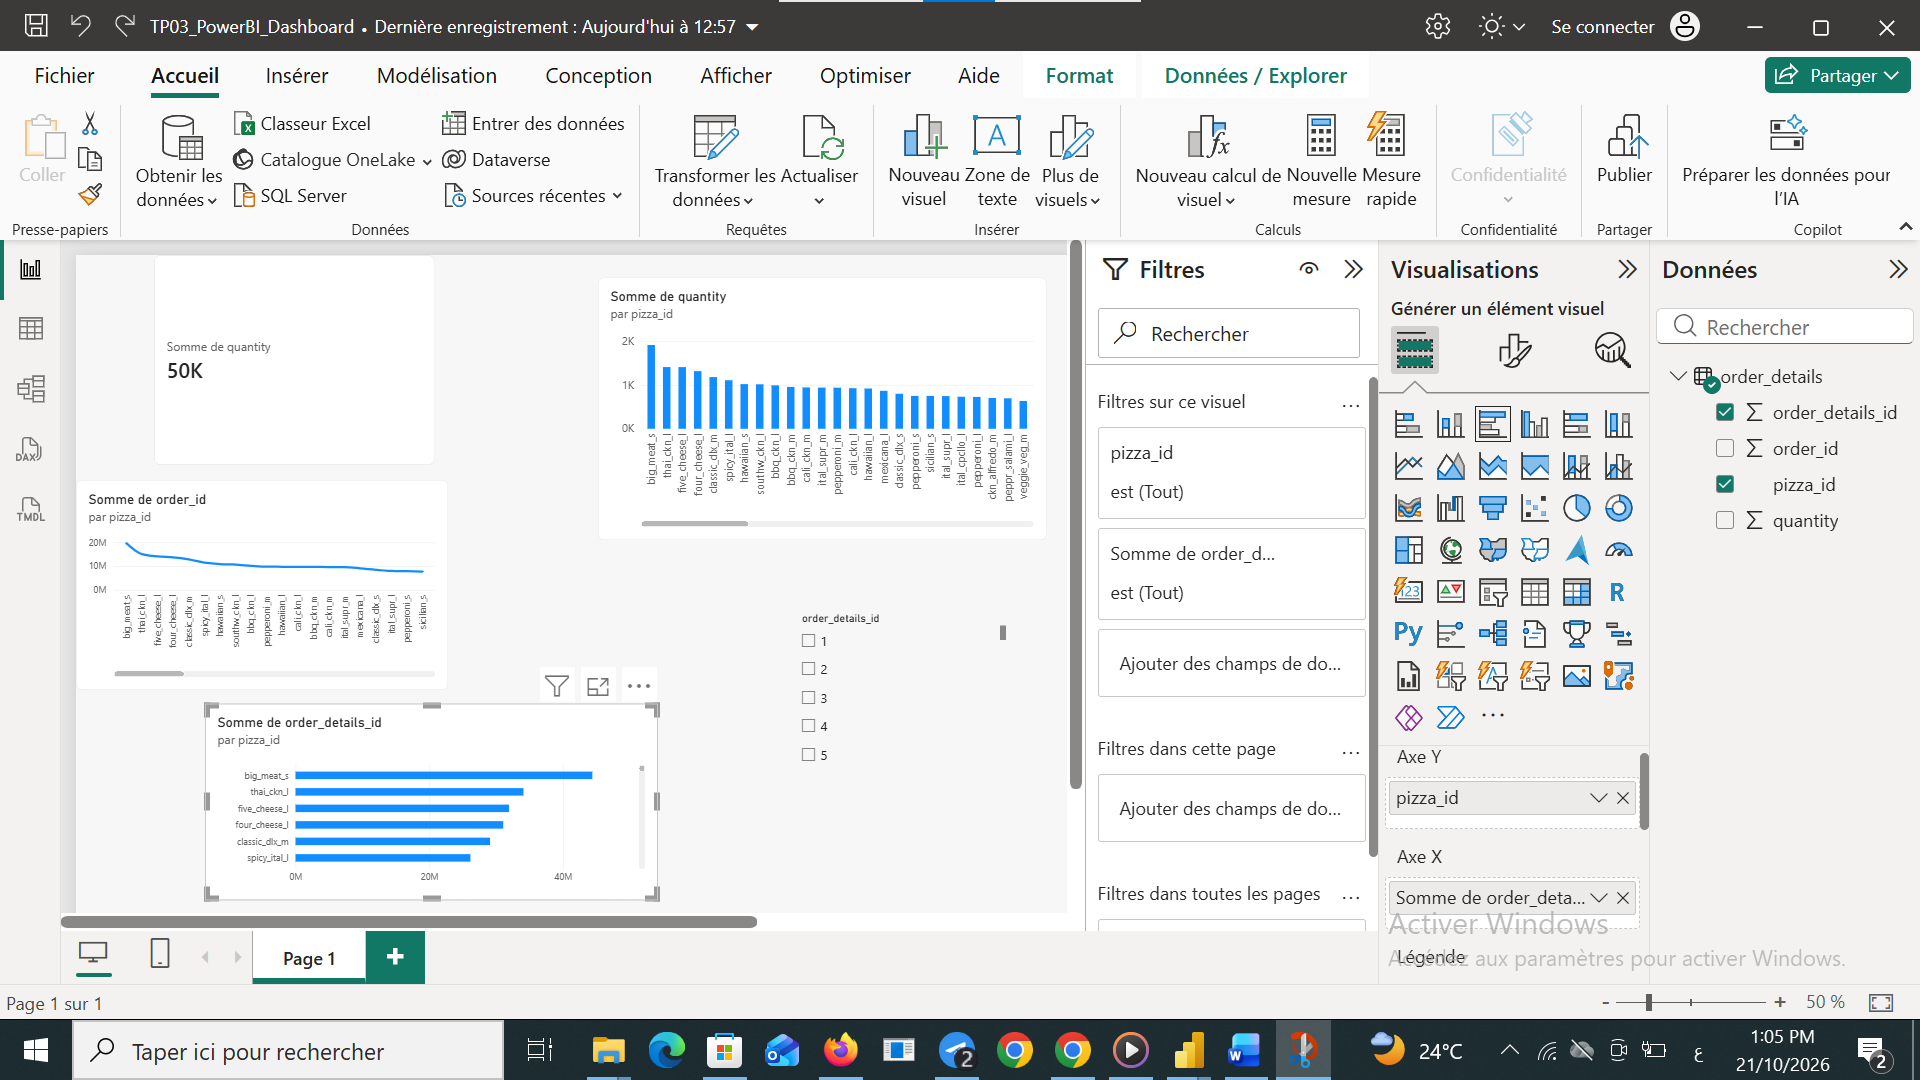

The page's visual inventory and layout, read from the dashboard file:
{"tool":"powerbi","page":{"name":"Page 1","canvas":[1920,1080],"ordinal":0},"visuals":[{"type":"cardVisual","fields":{"Data":["Sum(order_details.quantity)"]},"box":[104,0,374,280],"z":0},{"type":"columnChart","fields":{"Category":["order_details.pizza_id"],"Y":["Sum(order_details.quantity)"]},"box":[696,30,598,350],"z":1000},{"type":"lineChart","fields":{"Category":["order_details.pizza_id"],"Y":["Sum(order_details.order_id)"]},"box":[0,300,496,280],"z":2000},{"type":"clusteredBarChart","fields":{"Category":["order_details.pizza_id"],"Y":["Sum(order_details.order_details_id)"]},"box":[172,598,604,262],"z":3000},{"type":"slicer","fields":{"Values":["order_details.order_details_id"]},"box":[960,476,280,210],"z":4000}]}

Visuals, with their boxes on the page's 1920x1080 design canvas (x1, y1, x2, y2). These are canvas units, not pixel positions in the 1920x1080 screenshot, which may show the page scaled, cropped or inside an application window:
cardVisual - Sum(order_details.quantity): select_region(104, 0, 478, 280)
columnChart - order_details.pizza_id x Sum(order_details.quantity): select_region(696, 30, 1294, 380)
lineChart - order_details.pizza_id x Sum(order_details.order_id): select_region(0, 300, 496, 580)
clusteredBarChart - order_details.pizza_id x Sum(order_details.order_details_id): select_region(172, 598, 776, 860)
slicer - order_details.order_details_id: select_region(960, 476, 1240, 686)
